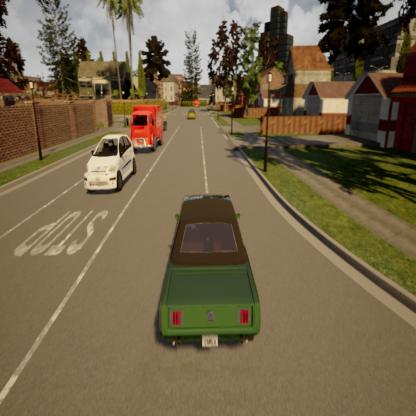Cars: (147, 181, 267, 359), (80, 131, 140, 201), (123, 97, 168, 154)
